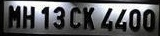character: (20, 5, 35, 30), (7, 4, 21, 30), (100, 7, 114, 32), (142, 8, 156, 33), (114, 8, 128, 32), (52, 6, 65, 31), (82, 6, 95, 30), (128, 8, 141, 32), (69, 6, 82, 28), (40, 5, 50, 30)
